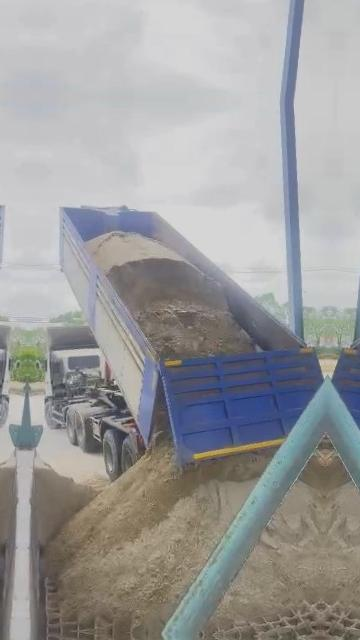sand: (46, 437, 270, 633), (87, 231, 255, 358), (211, 456, 326, 625), (33, 458, 97, 546)
